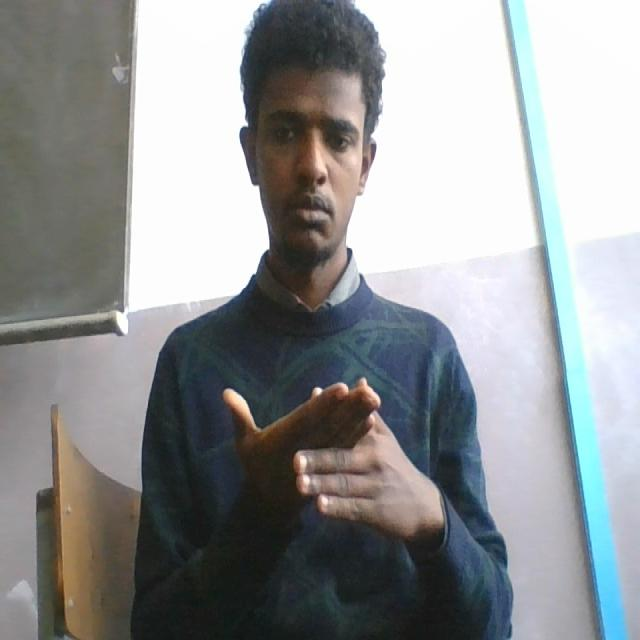sga: (218, 370, 442, 552)
